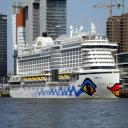cruises: (9, 27, 124, 104)
